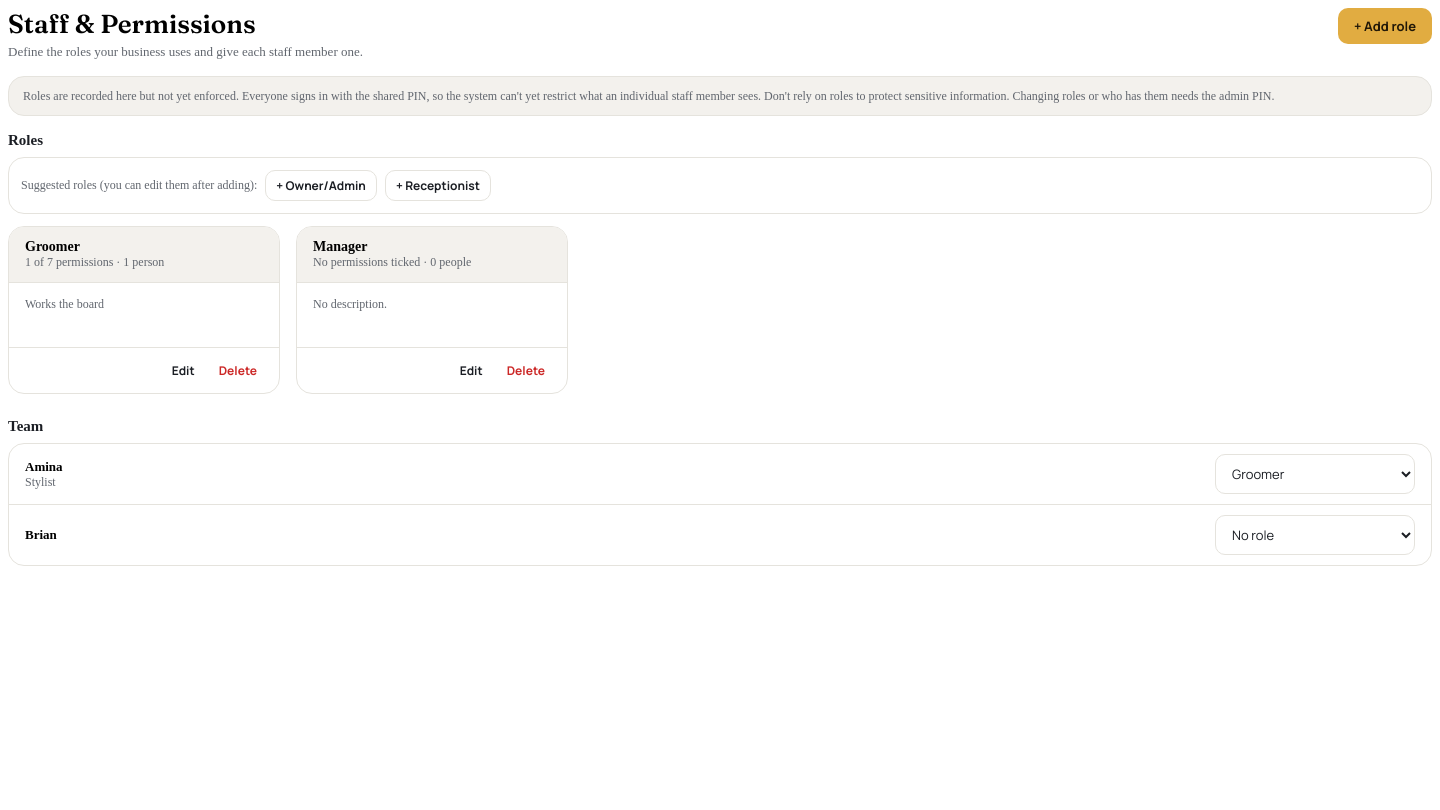
StaffPage (roles and assignment) › offers only the suggested roles that are missing and adds one with the admin PIN
Check: the button with aria-label "Edit Groomer" is shown, box [162, 356, 205, 385]
Click the button with aria-label "Add suggested role Receptionist".
click(438, 186)  # box [385, 170, 491, 201]
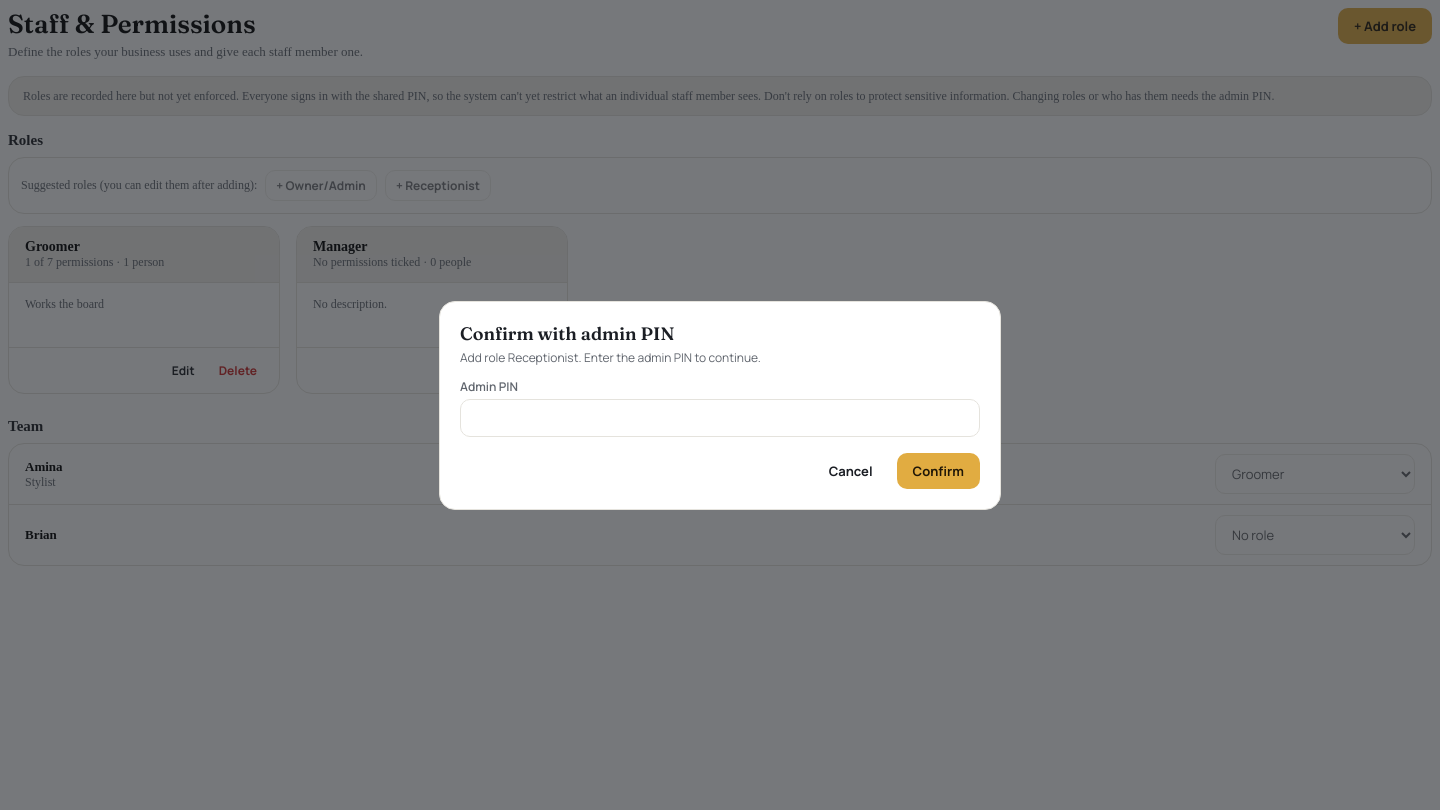
Type "9999" into the password field labelled "Admin PIN".
click(720, 418); type("9999")  # box [460, 398, 980, 436]
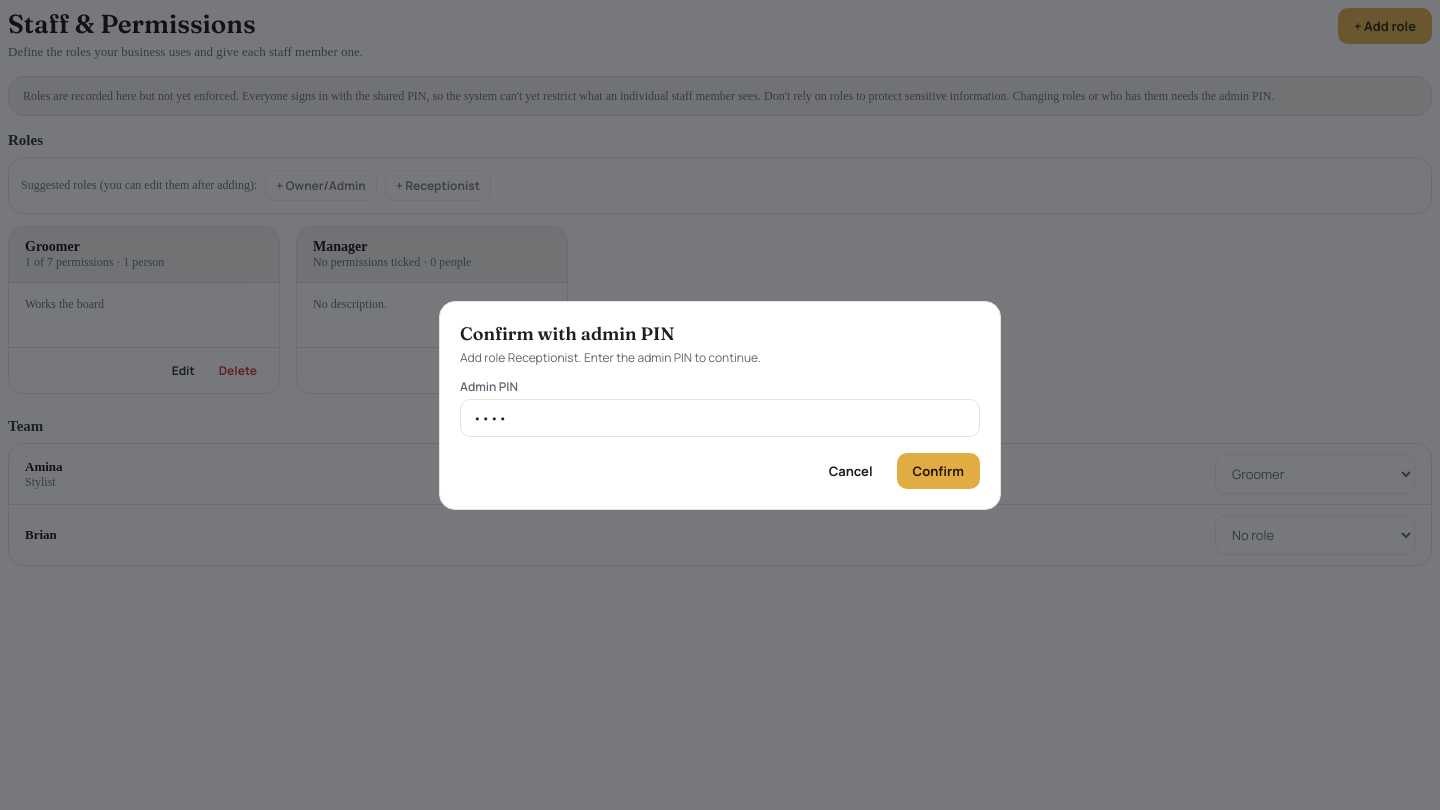
Click the button "Confirm".
click(938, 470)  # box [897, 452, 980, 488]
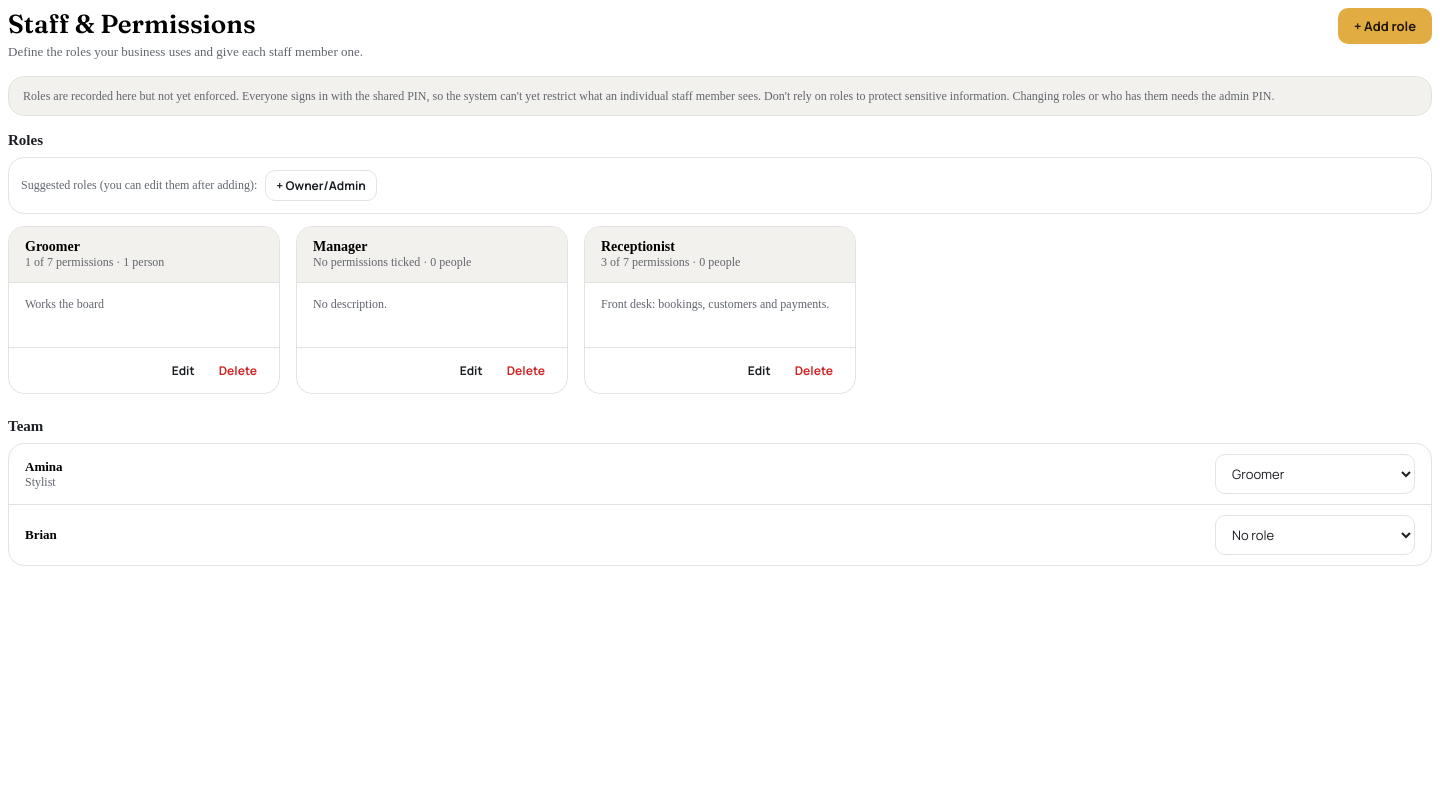
Check: the text "Receptionist" is shown, box [601, 239, 675, 254]
Check: the button with aria-label "Edit Receptionist" is shown, box [738, 356, 781, 385]
